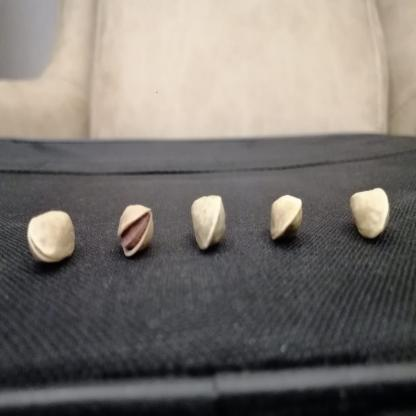pistachio: (29, 207, 81, 262), (348, 182, 393, 239), (112, 205, 158, 259), (188, 197, 228, 250), (267, 193, 305, 240)
